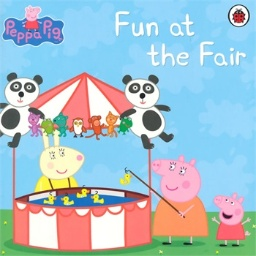Peppa: (211, 192, 251, 249)
